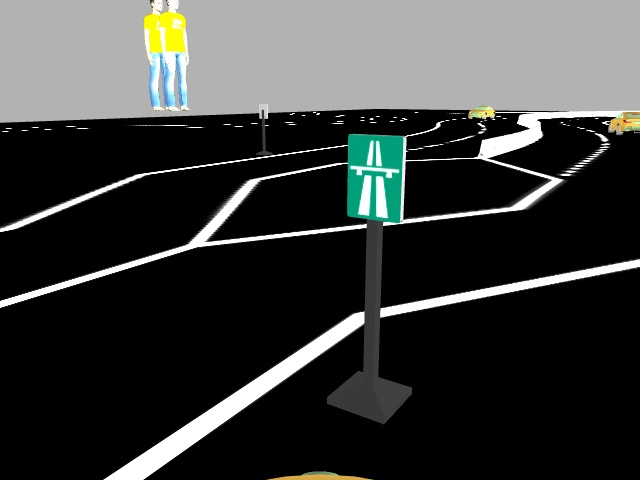HighwayEntrance: (342, 130, 408, 223)
